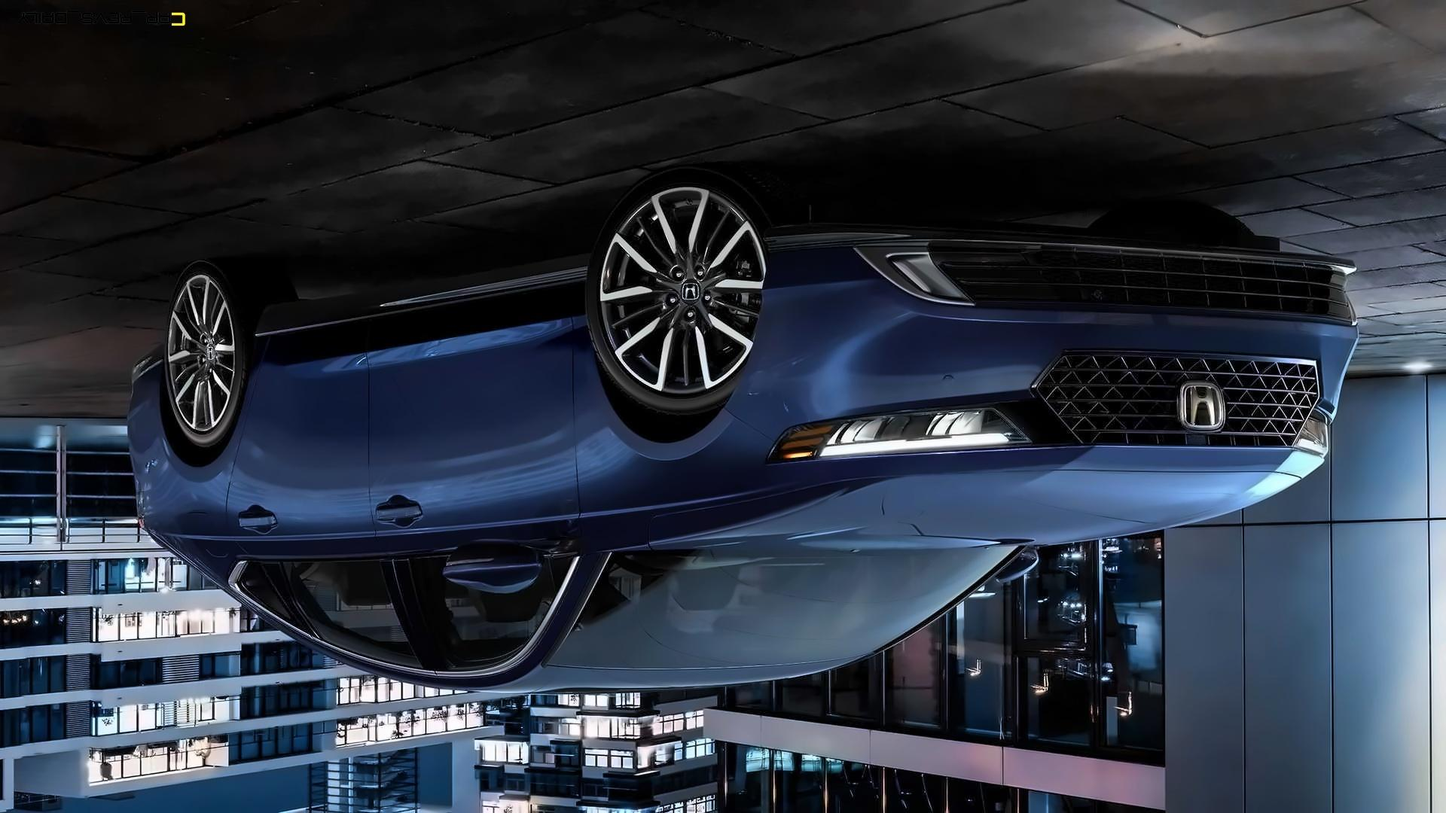Car hood: (625, 447, 1329, 563)
Fender - -F-L-: (565, 257, 783, 576)
Fender - -R-L-: (133, 317, 269, 562)
Front bumper: (748, 213, 1369, 416)
Headlight - -L-: (763, 400, 1068, 463)
Passenger-s door - -F-L-: (338, 245, 618, 715)
Passenger-s door - -R-L-: (220, 232, 442, 697)
Side bumper - -L-: (246, 242, 596, 412)
Side mirror - -L-: (436, 537, 578, 597)
